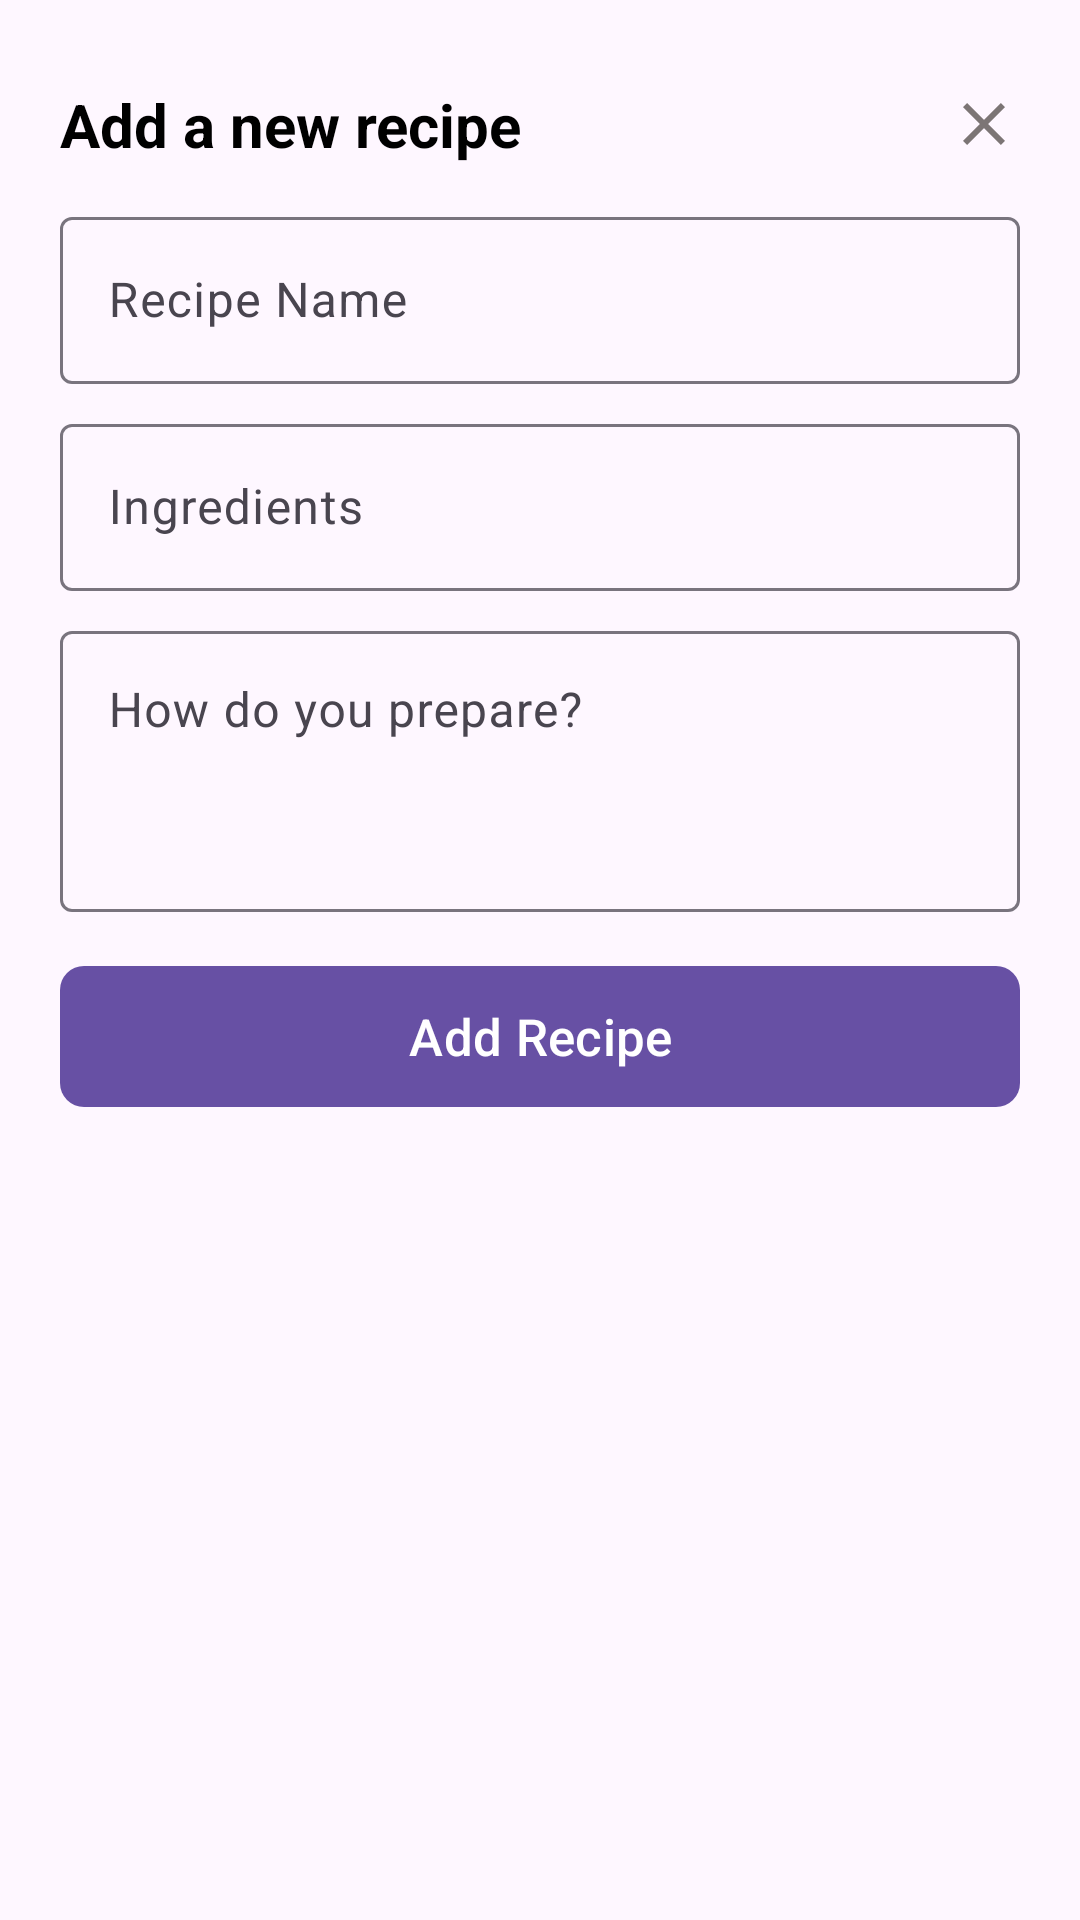

Locate icon controls on the screen. Image size 1080w x 1920h, boxes as box(x1, y1, x2, y2).
close: box(963, 103, 1005, 145)
